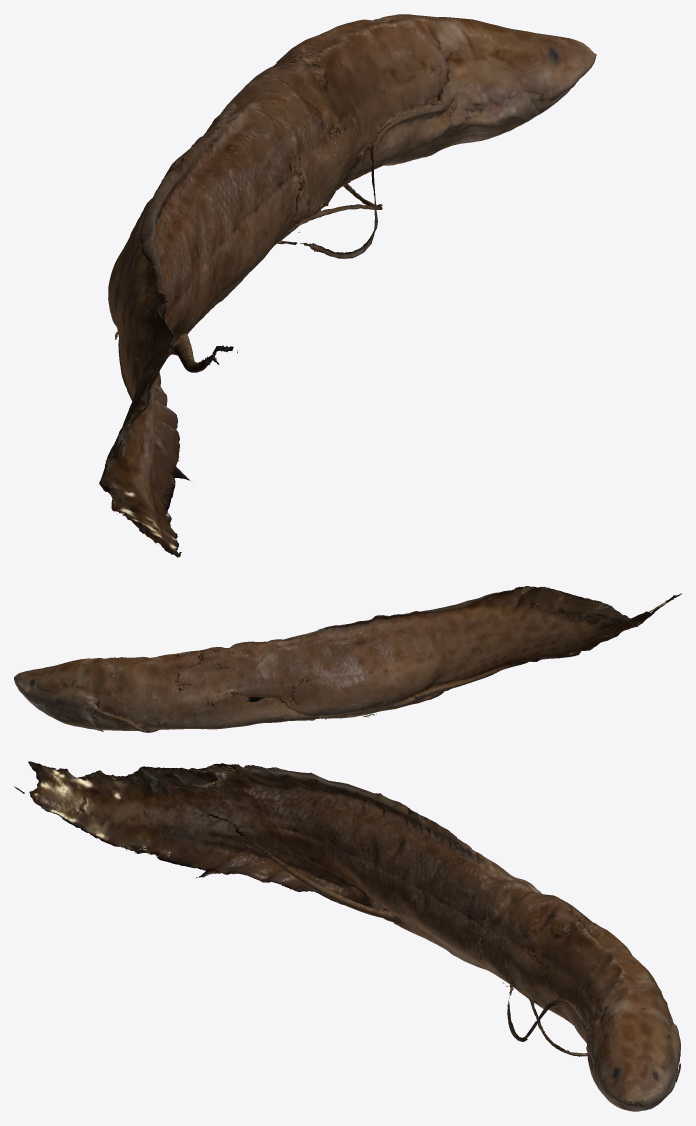
File: lungfish.glb
3 views of the same model, one above another, from view 1: azimuth 30°, elevation 25°; view 2: azimuth 150°, elevation 25°; view 3: azimuth 270°, elevation 25° (orthographic). The views are drawn at different scales.
Visible parts, largest first — view 1: Object_2; view 2: Object_2; view 3: Object_2.
Boxes of the visible parts, <box> form: Object_2: <box>99,14,596,557</box>; Object_2: <box>14,586,681,732</box>; Object_2: <box>14,761,680,1111</box>.
Bounding box in the file's own units: 1.35 × 0.304 × 1.27.
1 material, 1 textured.
